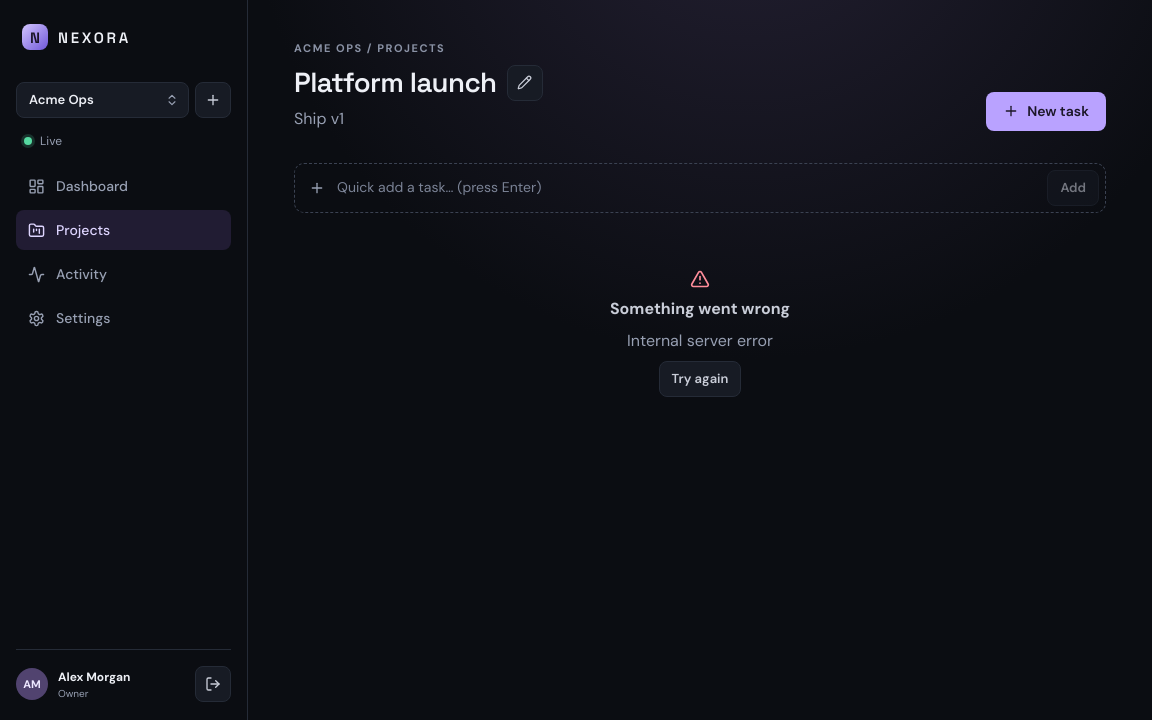
Test: BoardPage › shows an error state with retry when tasks fail to load
Expected: the text "Internal server error" is shown, left=627, top=328, right=773, bottom=352
Click the button "Try again". click: click(700, 378)
box: left=659, top=360, right=741, bottom=396
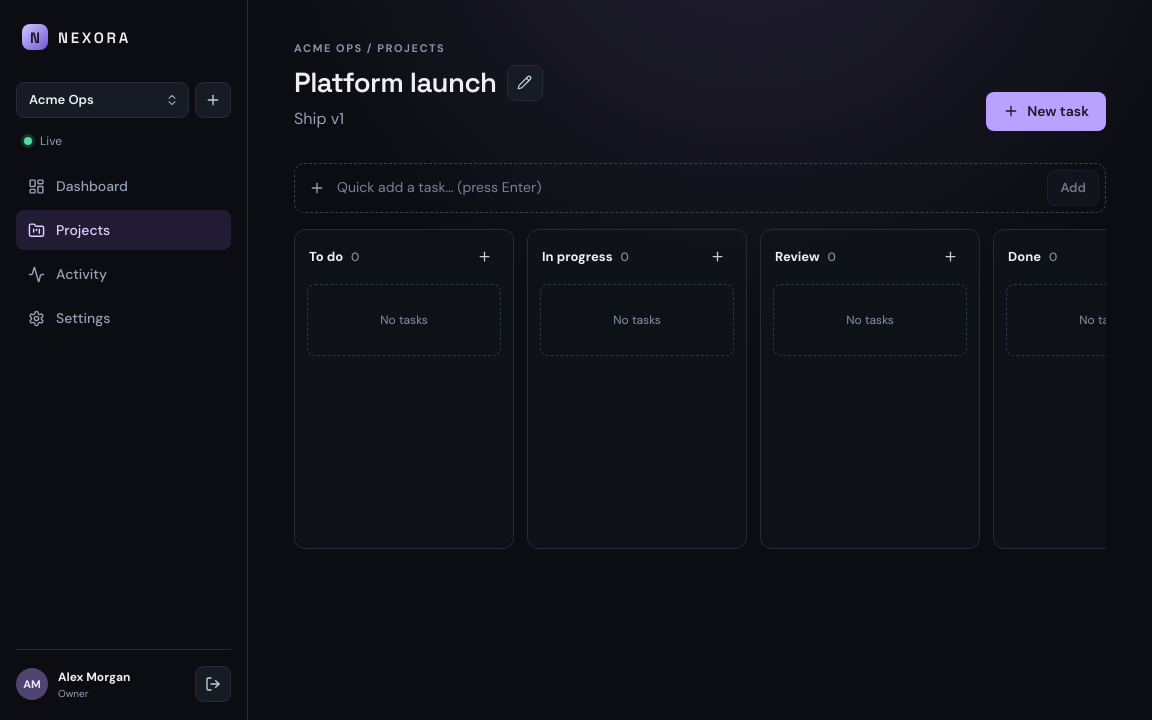
Expected: the list item "To do" is shown, left=294, top=228, right=514, bottom=548
